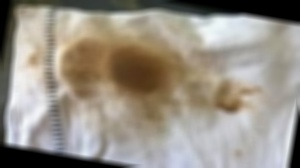earth: (60, 35, 175, 104), (214, 77, 249, 113)
